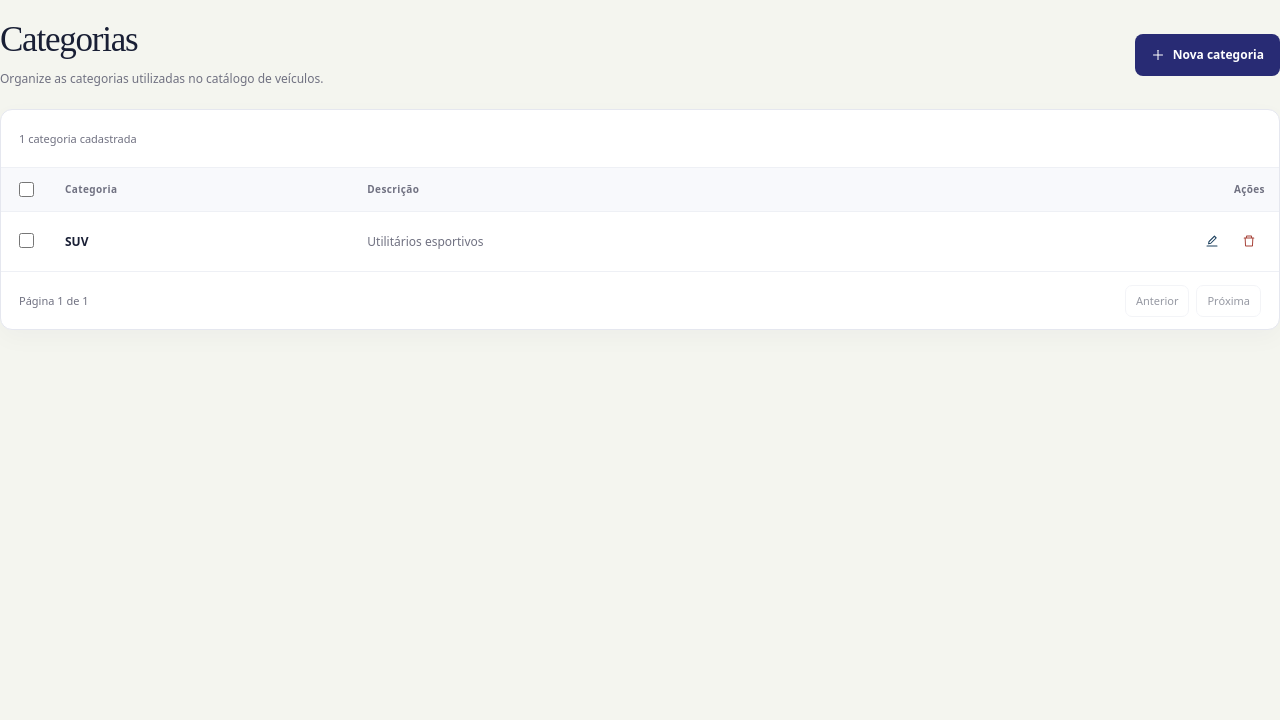
Scenario: vehicle categories page › deletes a category individually
Click the button named "Excluir SUV": (1249, 241) x1=1233 y1=225 x2=1265 y2=257
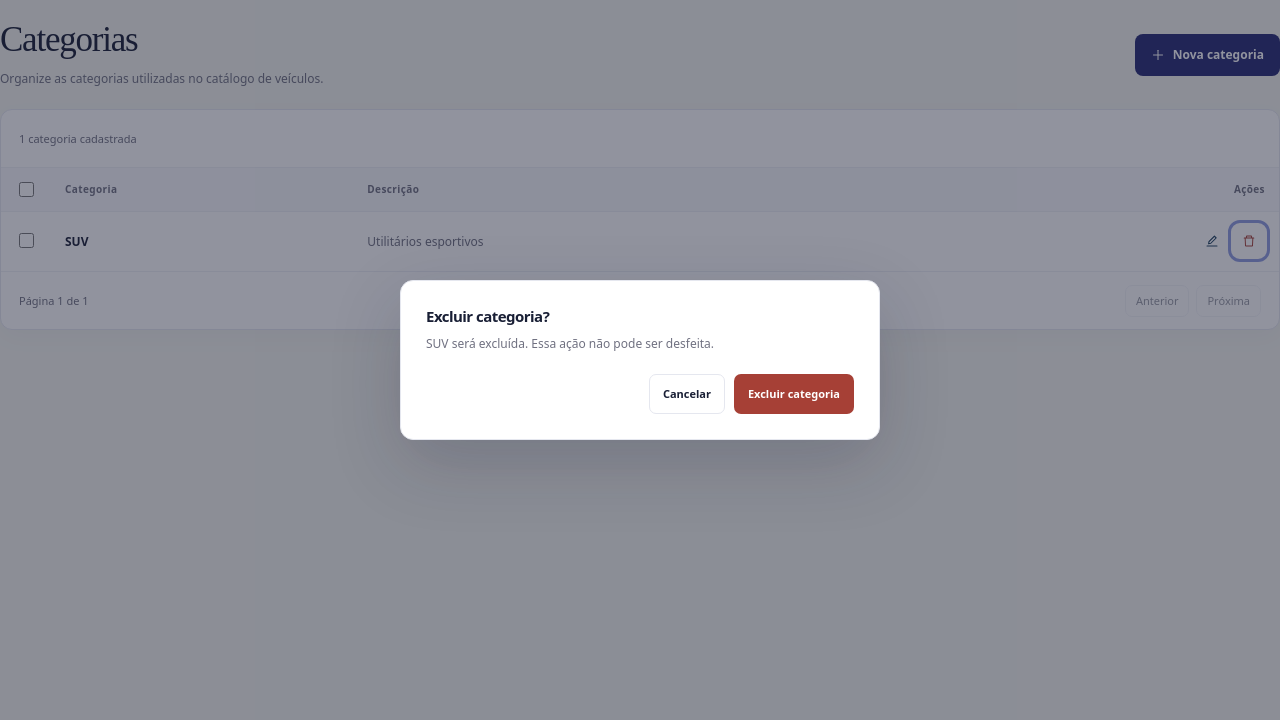
Click the button "Excluir categoria": (794, 394) x1=734 y1=374 x2=854 y2=414
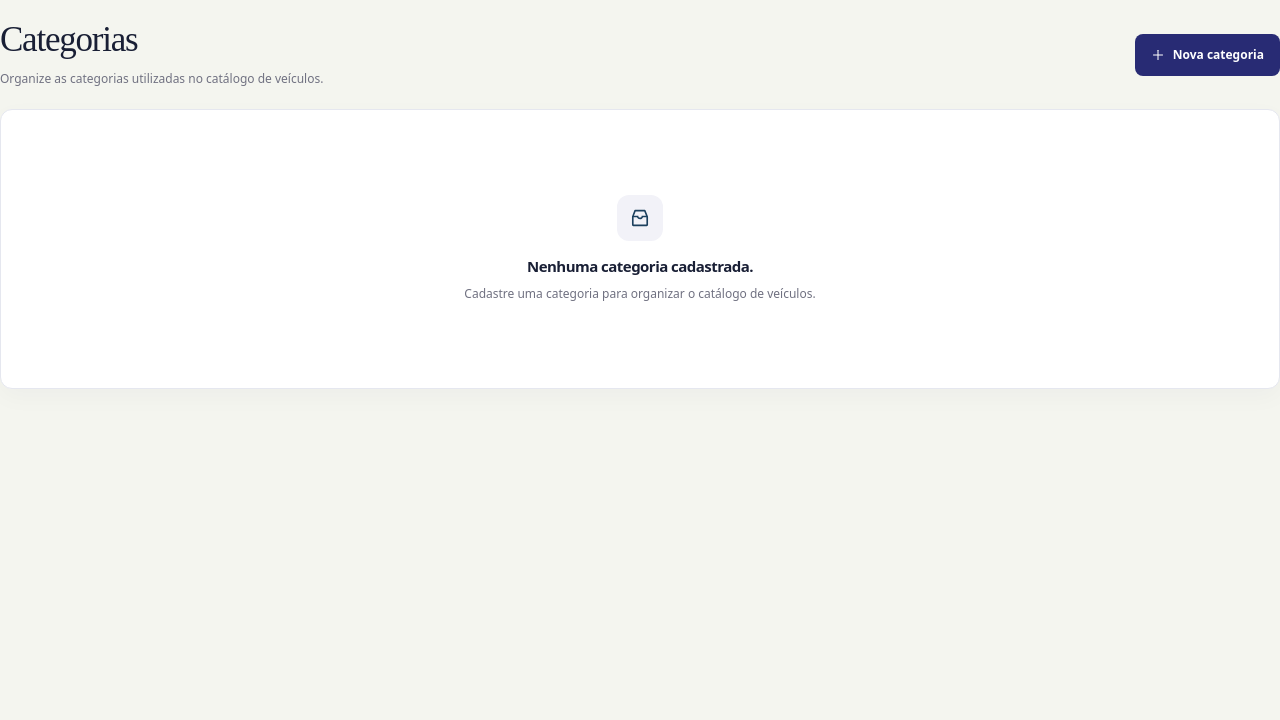
Check: the heading "Nenhuma categoria cadastrada." is shown, box x1=527 y1=256 x2=753 y2=276
